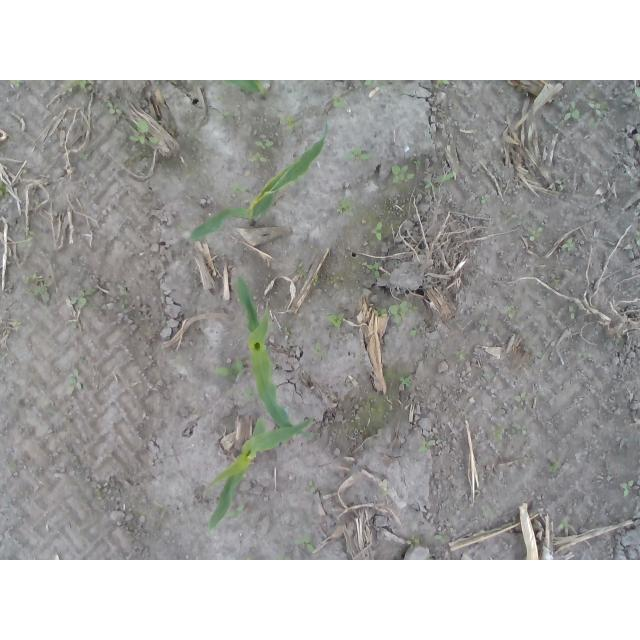Maize: (189, 118, 327, 242), (236, 274, 314, 438), (206, 416, 316, 532), (223, 81, 267, 100)
Weeds: (376, 301, 419, 328), (126, 117, 159, 145), (391, 160, 424, 185), (212, 356, 244, 381), (559, 100, 585, 128), (70, 287, 99, 309), (588, 100, 608, 128), (60, 80, 94, 96), (31, 276, 49, 305), (291, 533, 317, 552), (343, 143, 370, 161), (225, 499, 248, 519), (65, 367, 82, 394), (102, 95, 123, 114), (619, 479, 640, 497), (335, 196, 353, 216), (325, 312, 344, 329), (311, 340, 327, 360), (527, 226, 545, 243), (362, 262, 380, 279), (399, 374, 414, 394), (416, 439, 435, 454), (372, 220, 385, 241), (331, 94, 348, 110), (287, 115, 305, 130), (405, 535, 423, 550), (22, 225, 34, 247), (231, 182, 253, 194), (560, 236, 575, 252), (547, 456, 561, 473), (255, 138, 273, 151), (249, 152, 267, 165), (489, 425, 504, 440), (432, 532, 449, 545), (242, 384, 255, 400), (305, 480, 318, 496), (423, 175, 434, 193), (574, 351, 592, 362), (0, 179, 10, 198), (214, 112, 235, 121), (119, 295, 129, 313), (568, 303, 578, 320), (512, 391, 529, 401), (510, 423, 526, 433), (480, 193, 493, 205), (365, 80, 380, 90), (435, 80, 450, 90), (504, 304, 513, 320), (455, 351, 466, 364), (437, 174, 454, 182), (10, 80, 25, 89), (273, 553, 292, 560), (559, 518, 570, 530), (295, 262, 306, 272), (408, 327, 418, 337), (634, 232, 640, 248), (633, 86, 640, 99), (535, 352, 545, 361), (79, 152, 89, 161), (312, 277, 320, 287), (15, 320, 23, 330), (383, 394, 390, 402)
